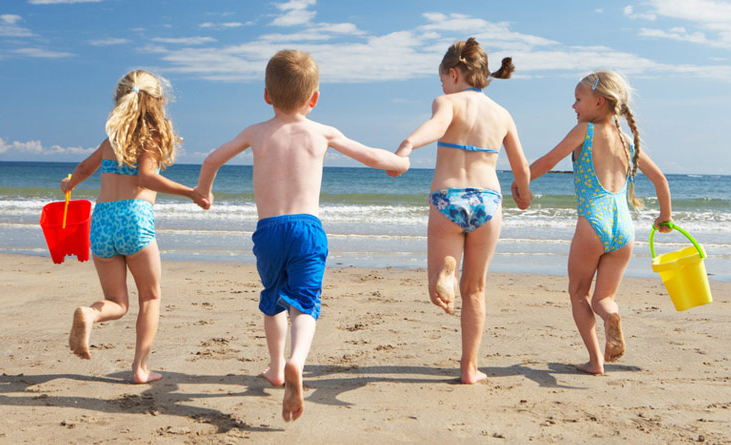Person: (193, 43, 393, 423), (516, 68, 678, 377), (52, 68, 201, 387), (395, 40, 530, 384)
